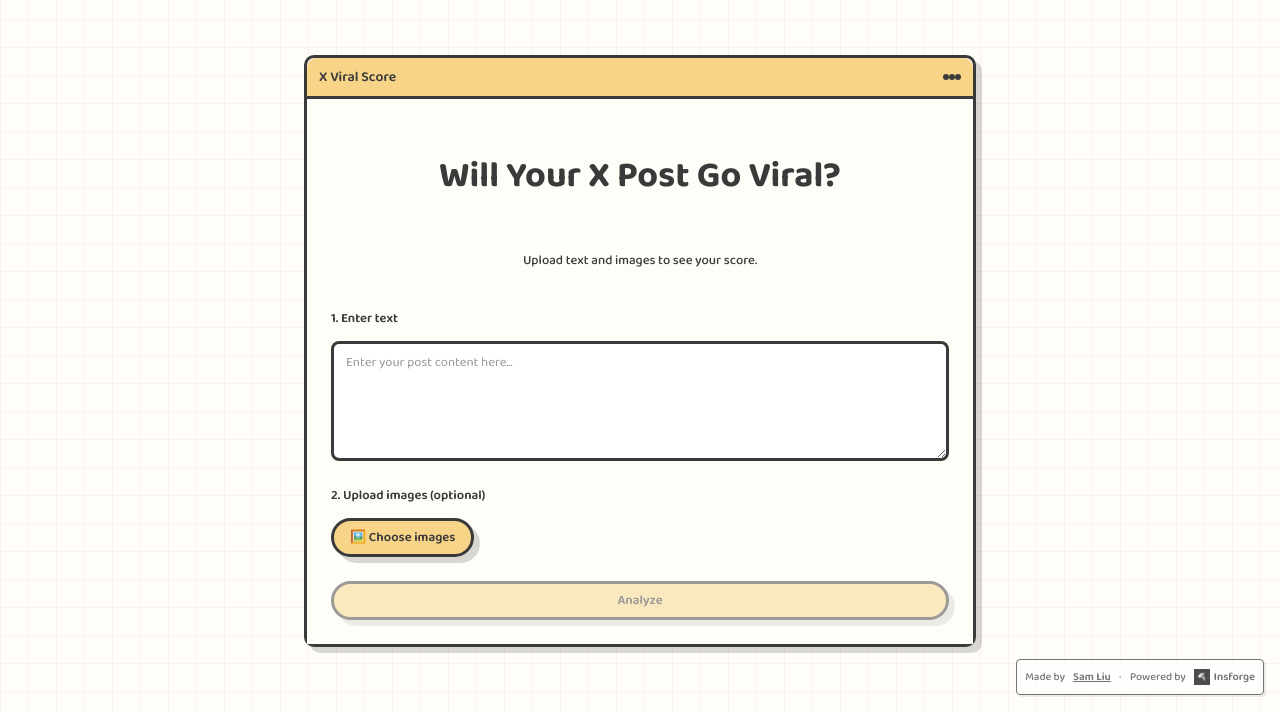
App › shows error when API returns error response
Type "Test post content" into the text box with placeholder "Enter your post content here..." at (640, 401), box [331,341,949,461]
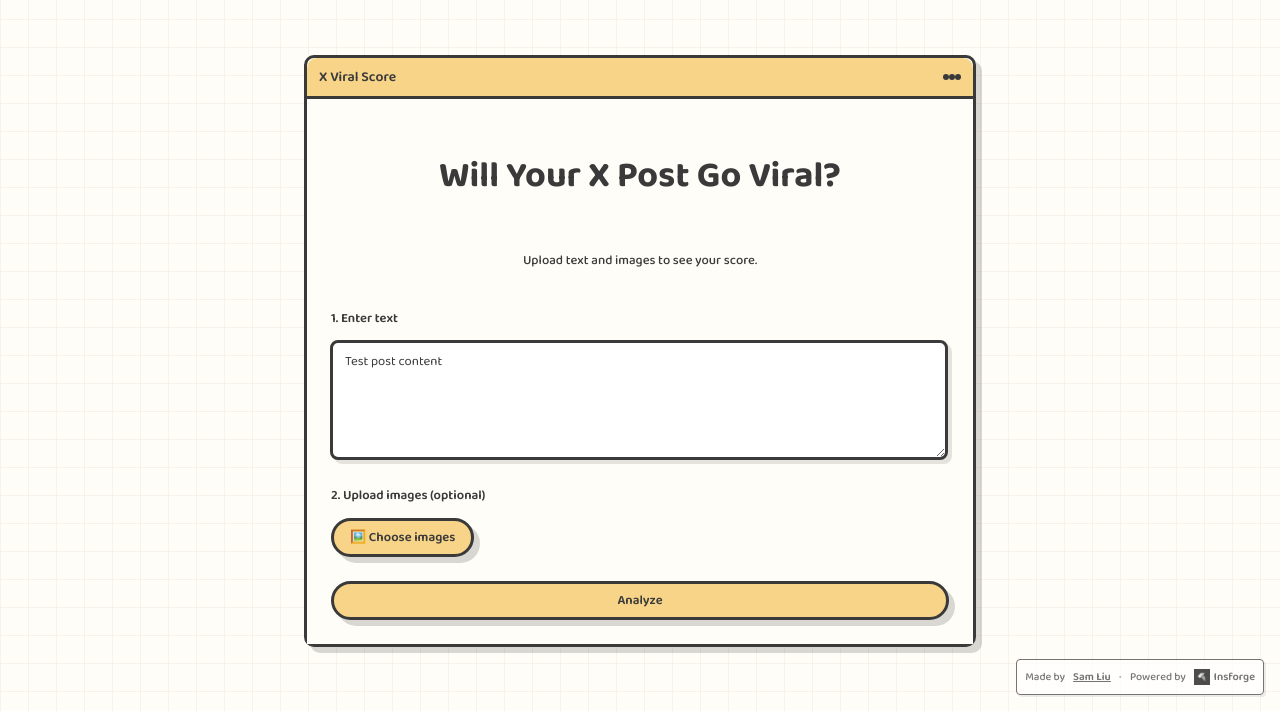
Click the button "Analyze" at (640, 601), box [331,581,949,620]
(page scrolled)
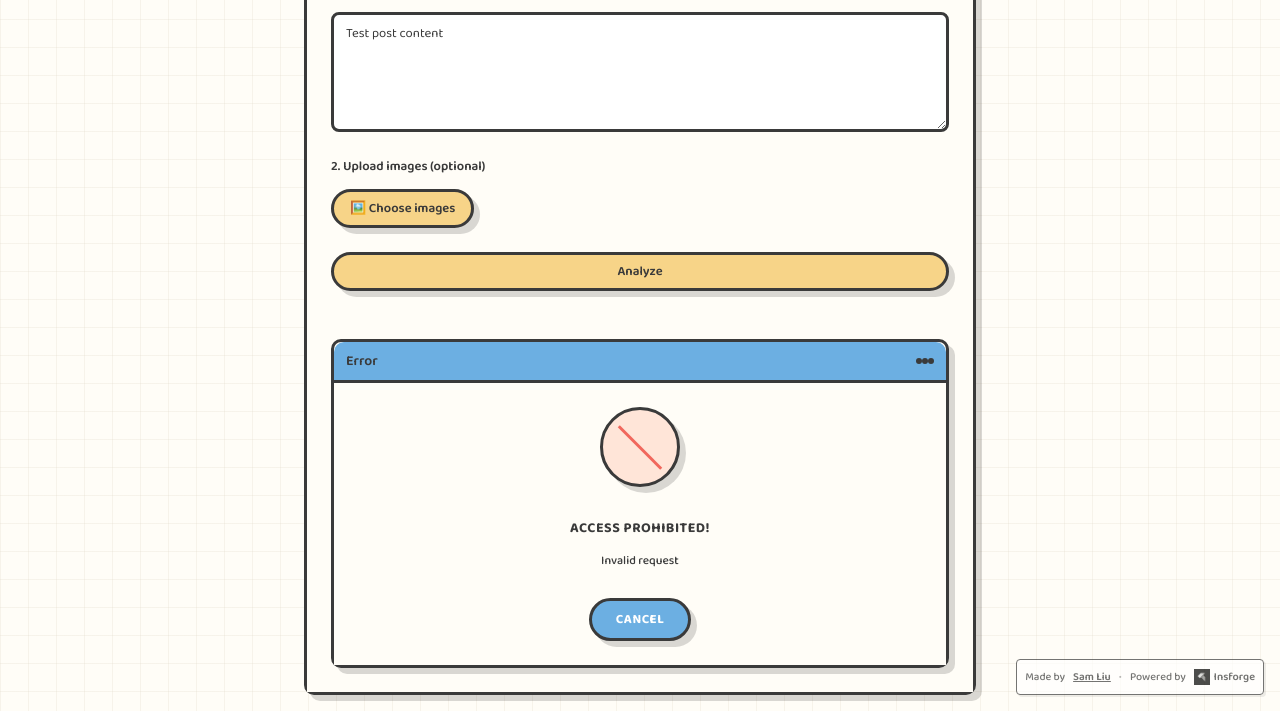
Expected: the text "Invalid request" is shown, [601,551,679,570]
